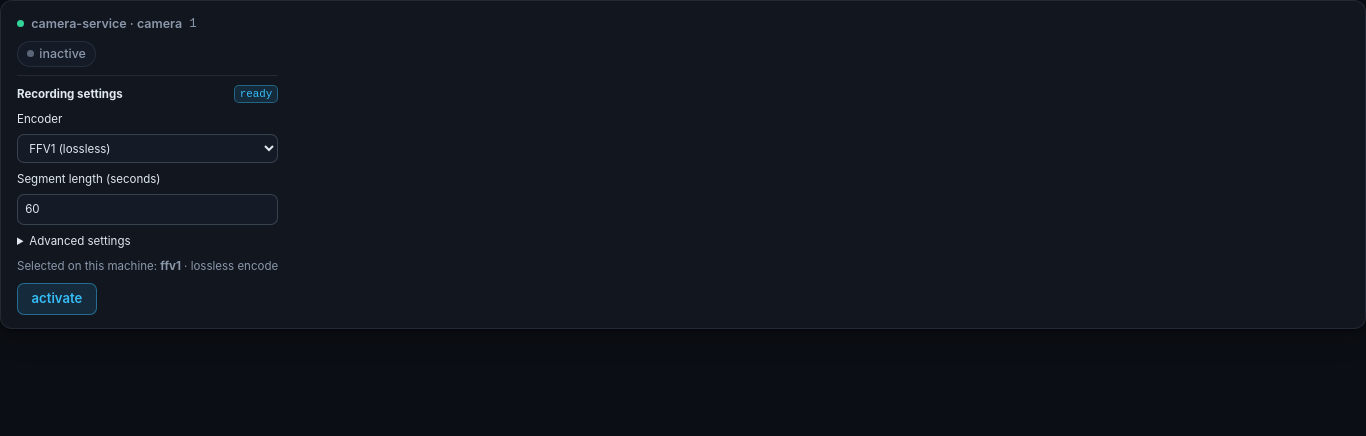
Scenario: keeps edits on a refusal and reloads after an external settings change
The image size is (1366, 436).
Replace the text in the number field labelled "Segment length (seconds)" with "10" at [148, 210], box top-left (17, 194), bottom-right (278, 225)
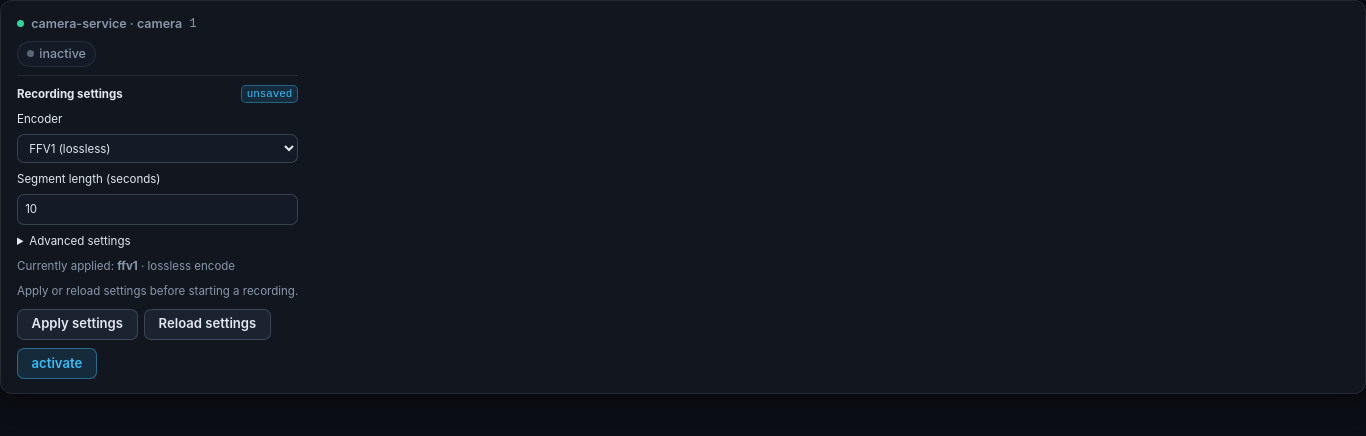
Click the button "Apply settings" at [77, 324], box top-left (17, 309), bottom-right (138, 340)
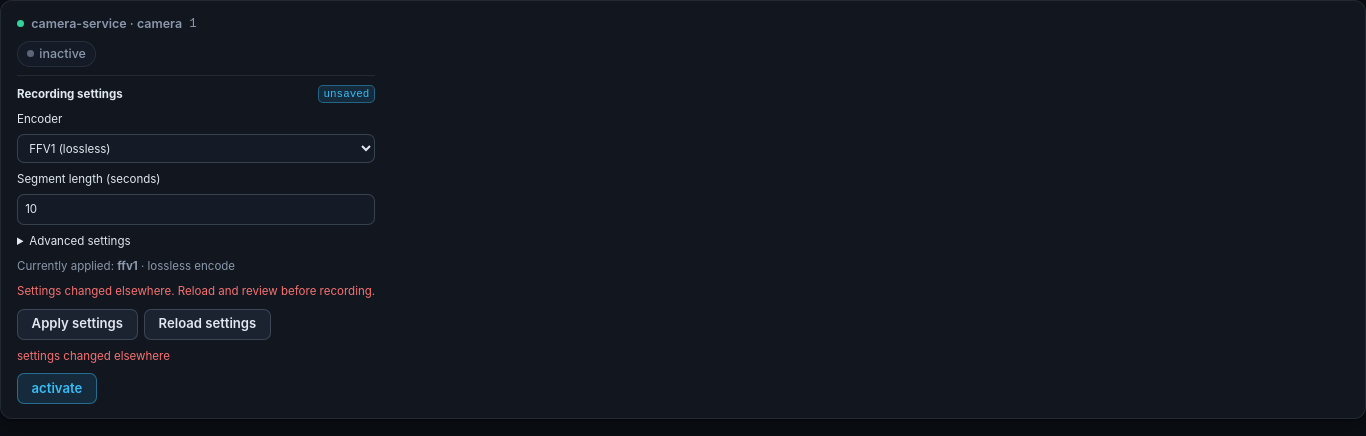
Expected: the text "settings changed elsewhere" is shown, top-left (17, 349), bottom-right (170, 363)
Expected: the message "Settings changed elsewhere. Reload and review before recording." is shown, top-left (17, 283), bottom-right (375, 301)
Click the button "Reload settings" at [207, 324], box top-left (144, 309), bottom-right (271, 340)
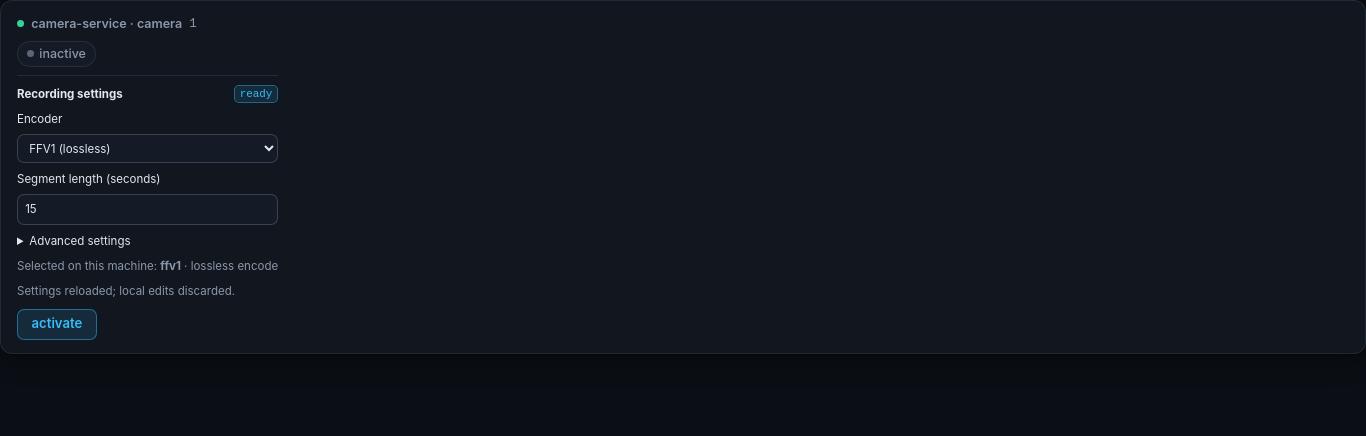
Expected: the text "Settings reloaded; local edits discarded." is shown, top-left (17, 284), bottom-right (235, 298)
Expected: the number field labelled "Segment length (seconds)" holds "15", top-left (17, 194), bottom-right (278, 225)
